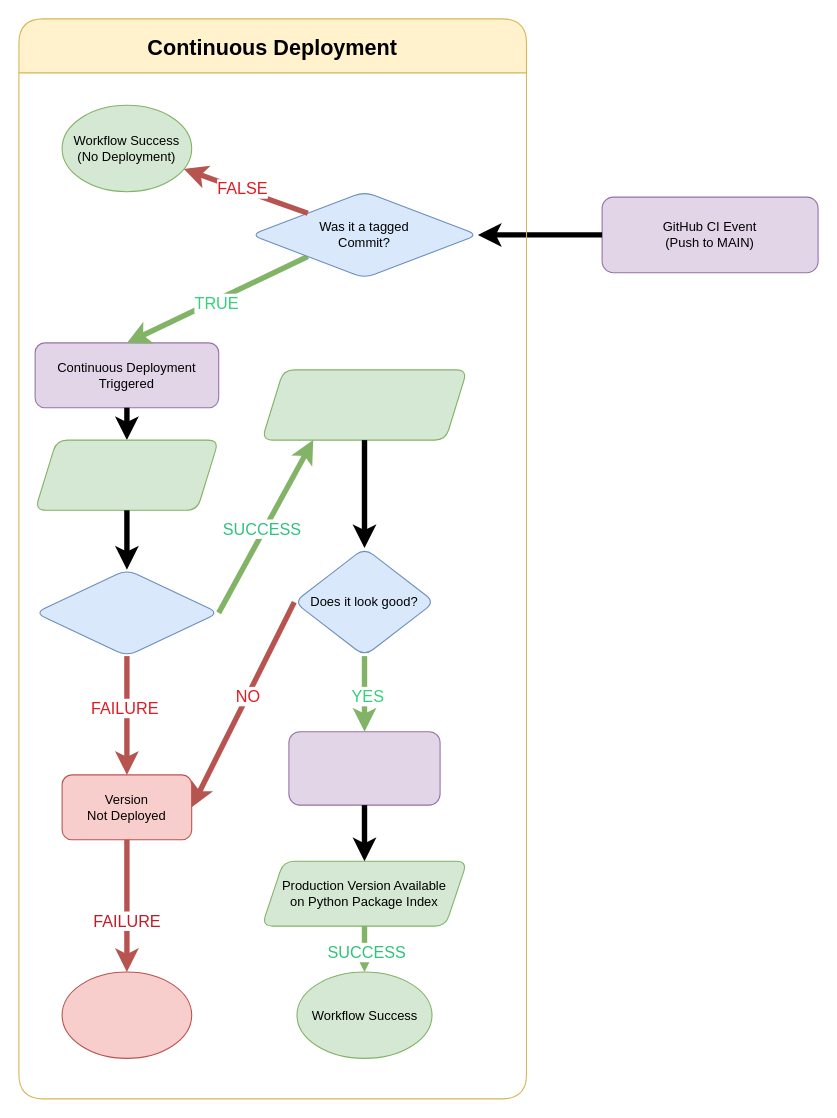
Some shapes in this 837 by 1118 pixel diagram are drawn without their labels. The shapes that lost their labels are listed below. From the top down, each one's box as (x1, y1, x2, y2) in pixels, then its label:
(261, 369, 467, 440): Testing Version Available on Python Package Index
(34, 439, 219, 510): Build Wheel and Source Distribution
(34, 569, 219, 656): Packaging Tests
(288, 731, 440, 805): Production Deployment Actions Triggered
(61, 971, 192, 1058): Workflow Failed
